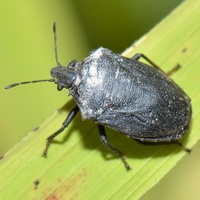insect: (43, 48, 191, 169)
